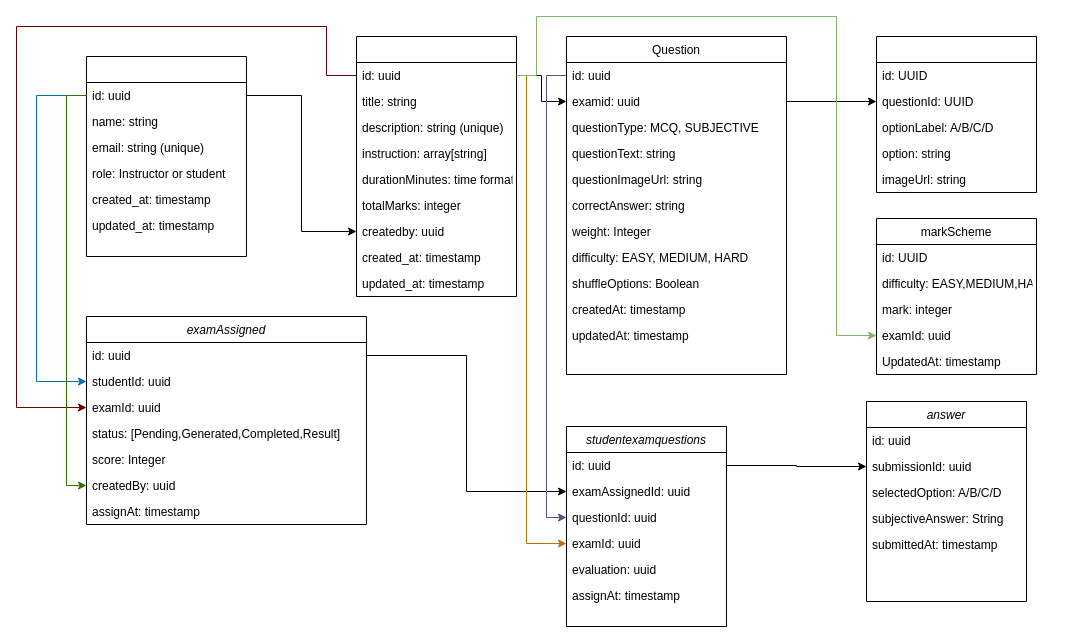
The diagram is 1068 pixels wide and 643 high, and some of its shapes have lost their labels. Here are the shapes that lost their labels. From the top down, the box of each, then its label:
(876, 36, 1036, 192): QuestionOption
(86, 56, 246, 256): user
(356, 36, 516, 296): exam
